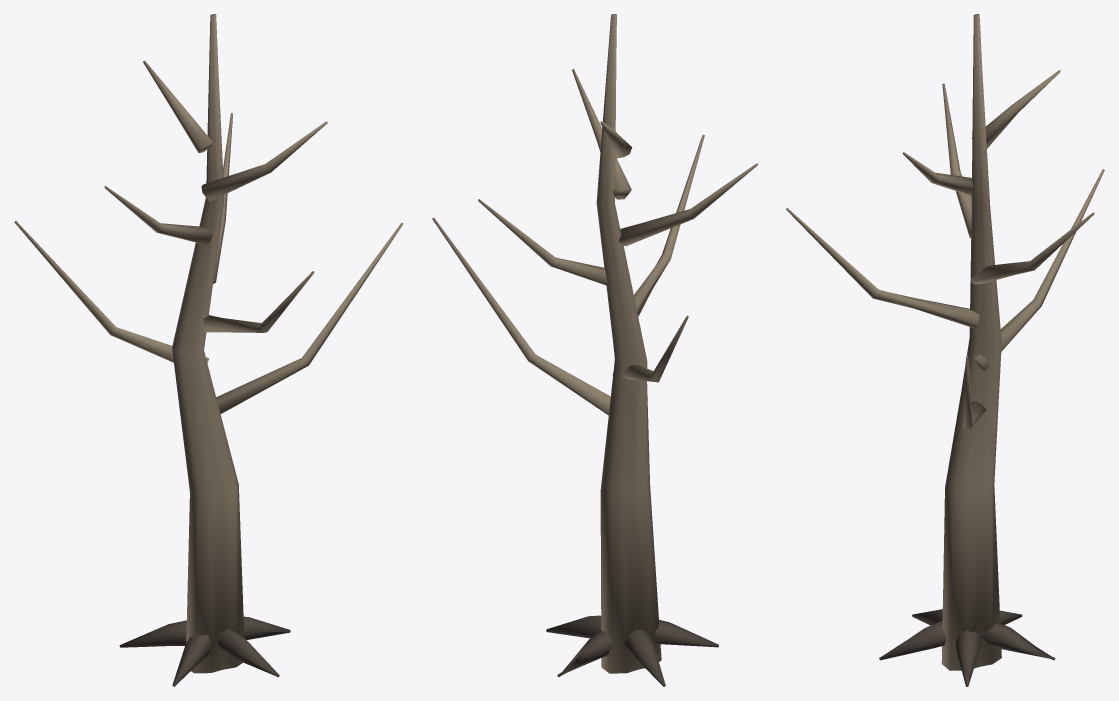
File: sc_weathered_snag.glb
The picture shows the model from 3 angles, left to right: view 1: azimuth 30°, elevation 25°; view 2: azimuth 150°, elevation 25°; view 3: azimuth 270°, elevation 25°; orthographic projection.
Parts seen in each view (by area): view 1: sc_weathered_snag; view 2: sc_weathered_snag; view 3: sc_weathered_snag.
Boxes of the visible parts, <box> form: sc_weathered_snag: <box>14,14,403,686</box>; sc_weathered_snag: <box>432,14,757,686</box>; sc_weathered_snag: <box>786,14,1104,686</box>.
Size of the model in its own units: 3.82 by 7.29 by 3.25.
